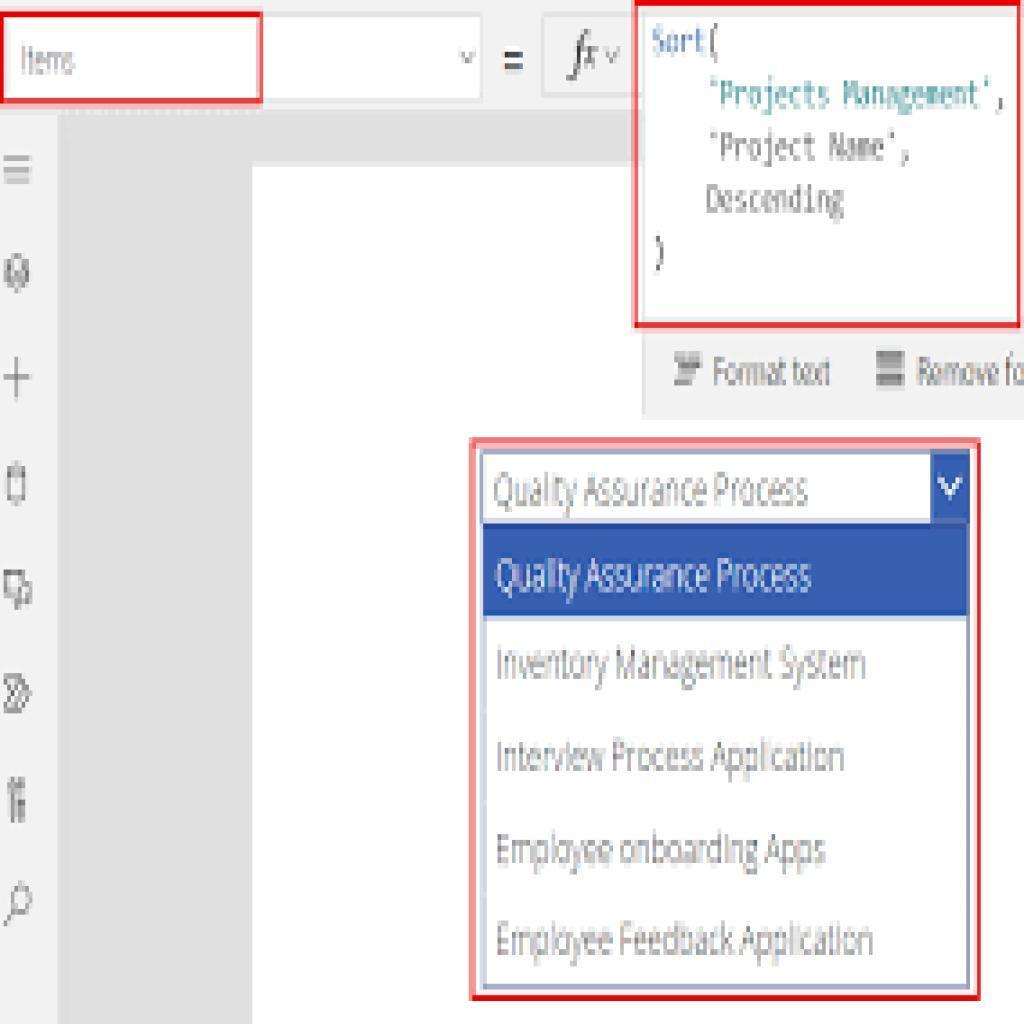button: (484, 524, 971, 615)
dropdown: (480, 450, 970, 524)
icon: (1, 872, 40, 940), (1, 774, 42, 834), (1, 449, 38, 510), (1, 354, 37, 408), (1, 672, 40, 720), (1, 567, 35, 619), (1, 254, 37, 299)
label: (488, 915, 882, 971), (494, 638, 877, 687), (494, 827, 832, 880), (491, 738, 852, 784)
